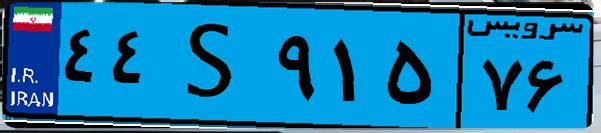1: (330, 28, 385, 110)
4: (57, 26, 110, 100), (110, 28, 158, 98)
5: (385, 28, 445, 110)
6: (525, 38, 570, 115)
7: (475, 38, 525, 113)
9: (270, 28, 330, 110)
S: (158, 12, 270, 120)
